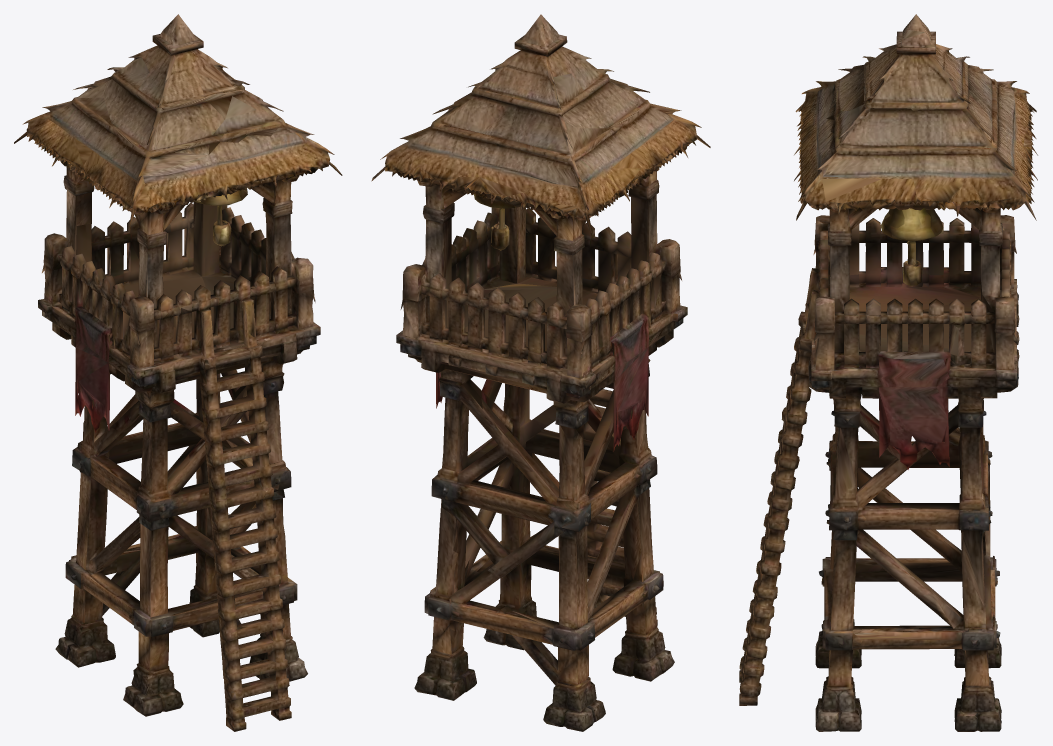
3 views of the same model, side by side, from view 1: azimuth 30°, elevation 25°; view 2: azimuth 150°, elevation 25°; view 3: azimuth 270°, elevation 25° (orthographic). The views are drawn at different scales.
Visible parts, largest first — view 1: node_0; view 2: node_0; view 3: node_0.
Part boxes in pixels (left/top/right/bottom): node_0: left=14, top=14, right=342, bottom=731; node_0: left=371, top=14, right=710, bottom=731; node_0: left=739, top=14, right=1037, bottom=731.
Size of the model in its own units: 0.3834 by 1.11 by 0.4449.
Materials: 1 (1 with a texture image).
